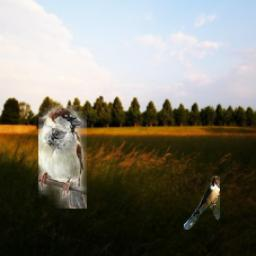Sparrow: (37, 105, 86, 209)
Swallow: (184, 177, 220, 231)
